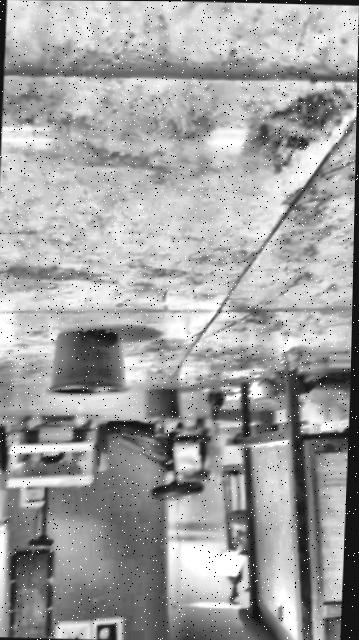pot: (46, 329, 130, 397), (140, 389, 182, 422)
